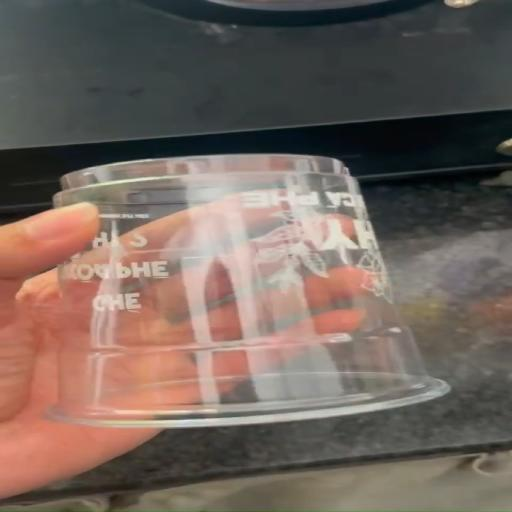ly_nhua: (53, 154, 446, 427)
